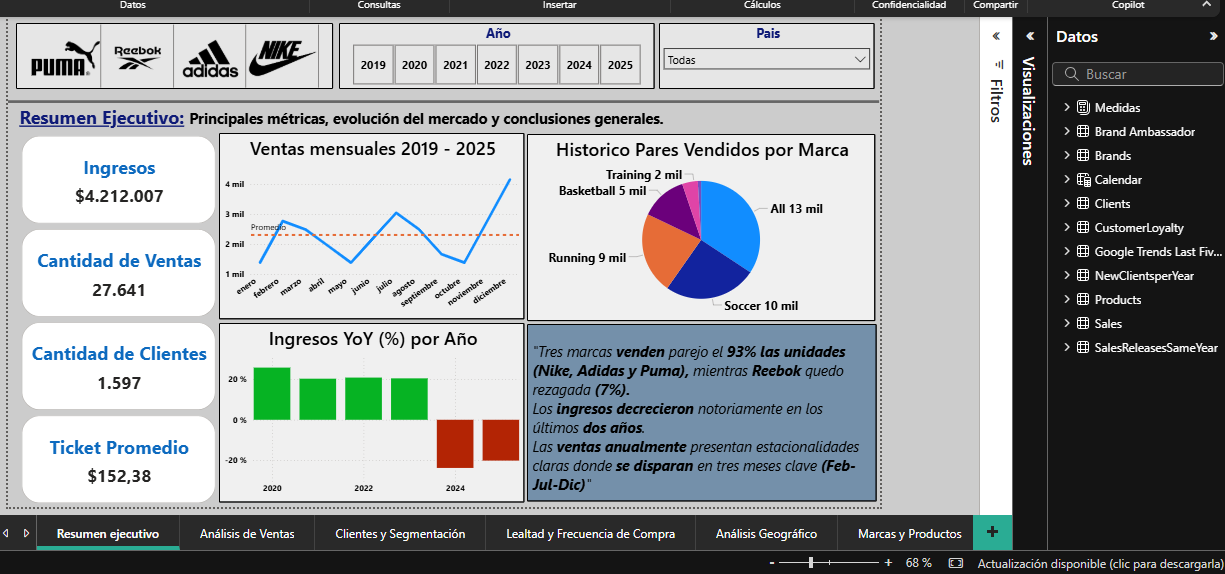

The dashboard page shown, as its layout file describes it:
{"tool":"powerbi","page":{"name":"Resumen ejecutivo","canvas":[1280,720],"ordinal":1},"visuals":[{"type":"textbox","box":[11.9,123.6,1065,47.4],"z":0},{"type":"slicer","title":"Año","fields":{"Values":["Calendar.Date.Variación.Jerarquía de fechas.Año"]},"box":[485.9,8.5,463.9,96.5],"z":1000},{"type":"slicer","title":"Pais","fields":{"Values":["Clients.Country"]},"box":[956.6,8.5,316.6,96.5],"z":2000},{"type":"slicer","title":"Marca","fields":{"Values":["Brands.Logo"]},"box":[11.9,8.5,465.6,96.5],"z":3000},{"type":"shape","box":[0,116.8,1280,13.5],"z":4000},{"type":"cardVisual","fields":{"Data":["Medidas.Ingresos","Medidas.Cantidad de Ventas","Medidas.Cantidad de Clientes","Medidas.Ticket Promedio"]},"box":[0,171,325.1,548.6],"z":5000},{"type":"pieChart","title":"Historico Pares Vendidos por Marca","fields":{"Y":["Medidas.Pares Vendidos"],"Category":["Products.Sport"]},"box":[763.3,171.7,511.7,275],"z":6000},{"type":"lineChart","title":"Ventas mensuales 2019 - 2025","fields":{"Category":["Calendar.Date.Variación.Jerarquía de fechas.Mes"],"Y":["Medidas.Cantidad de Ventas"]},"box":[309.8,171,448.7,274.3],"z":7000},{"type":"columnChart","title":"Ingresos YoY (%) por Año","fields":{"Category":["Calendar.Date.Variación.Jerarquía de fechas.Año"],"Y":["Medidas.Variacion YoY (%)"]},"box":[310.2,449.2,449.2,264.4],"z":8000},{"type":"textbox","box":[762.7,450.8,513.6,261],"z":9000}]}

Visuals, with their boxes on the page's 1280x720 design canvas (x1, y1, x2, y2). These are canvas units, not pixel positions in the 1225x574 screenshot, which may show the page scaled, cropped or inside an application window:
textbox: bbox(12, 124, 1077, 171)
"Año" slicer: bbox(486, 8, 950, 105)
"Pais" slicer: bbox(957, 8, 1273, 105)
"Marca" slicer: bbox(12, 8, 478, 105)
shape: bbox(0, 117, 1280, 130)
cardVisual - Medidas.Ingresos x Medidas.Cantidad de Ventas: bbox(0, 171, 325, 720)
"Historico Pares Vendidos por Marca" pieChart: bbox(763, 172, 1275, 447)
"Ventas mensuales 2019 - 2025" lineChart: bbox(310, 171, 758, 445)
"Ingresos YoY (%) por Año" columnChart: bbox(310, 449, 759, 714)
textbox: bbox(763, 451, 1276, 712)
